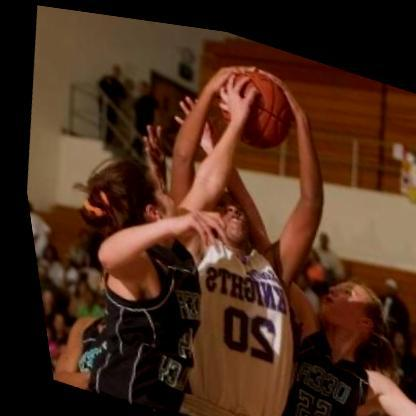basketball: (200, 45, 304, 154)
